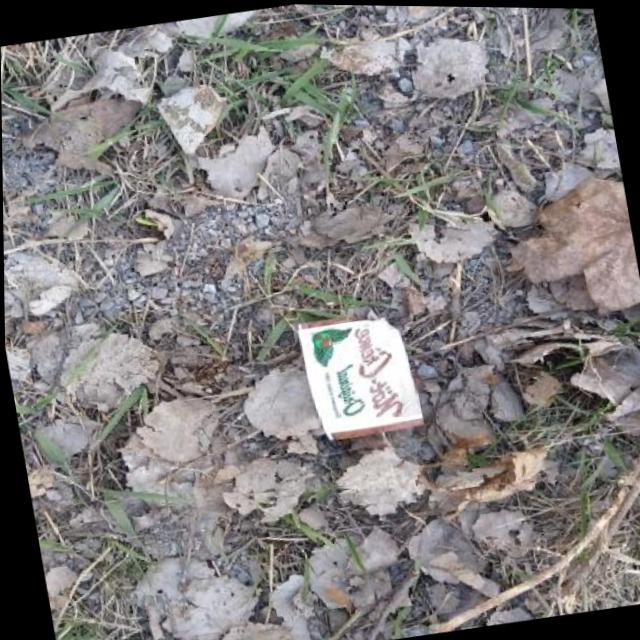paper: (295, 306, 430, 447)
